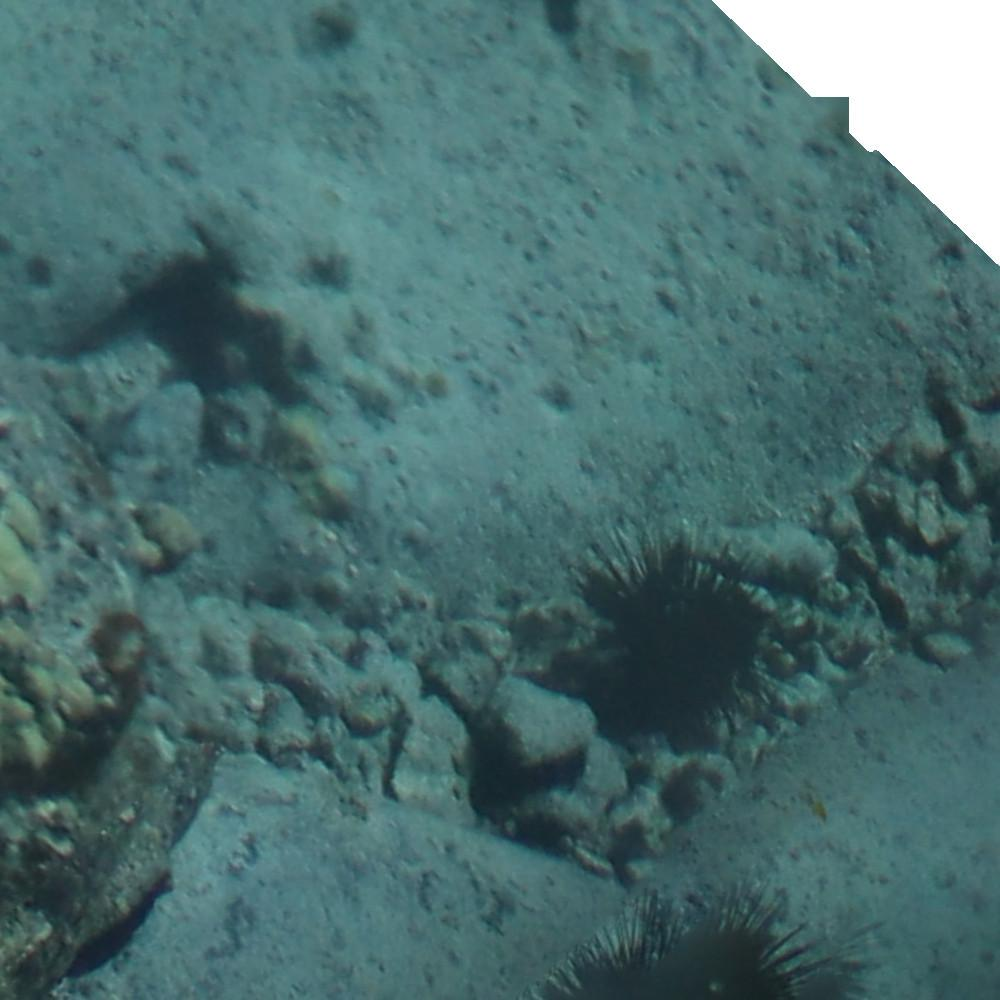diadema_paucispinum: (566, 520, 800, 748), (555, 879, 836, 1000)
